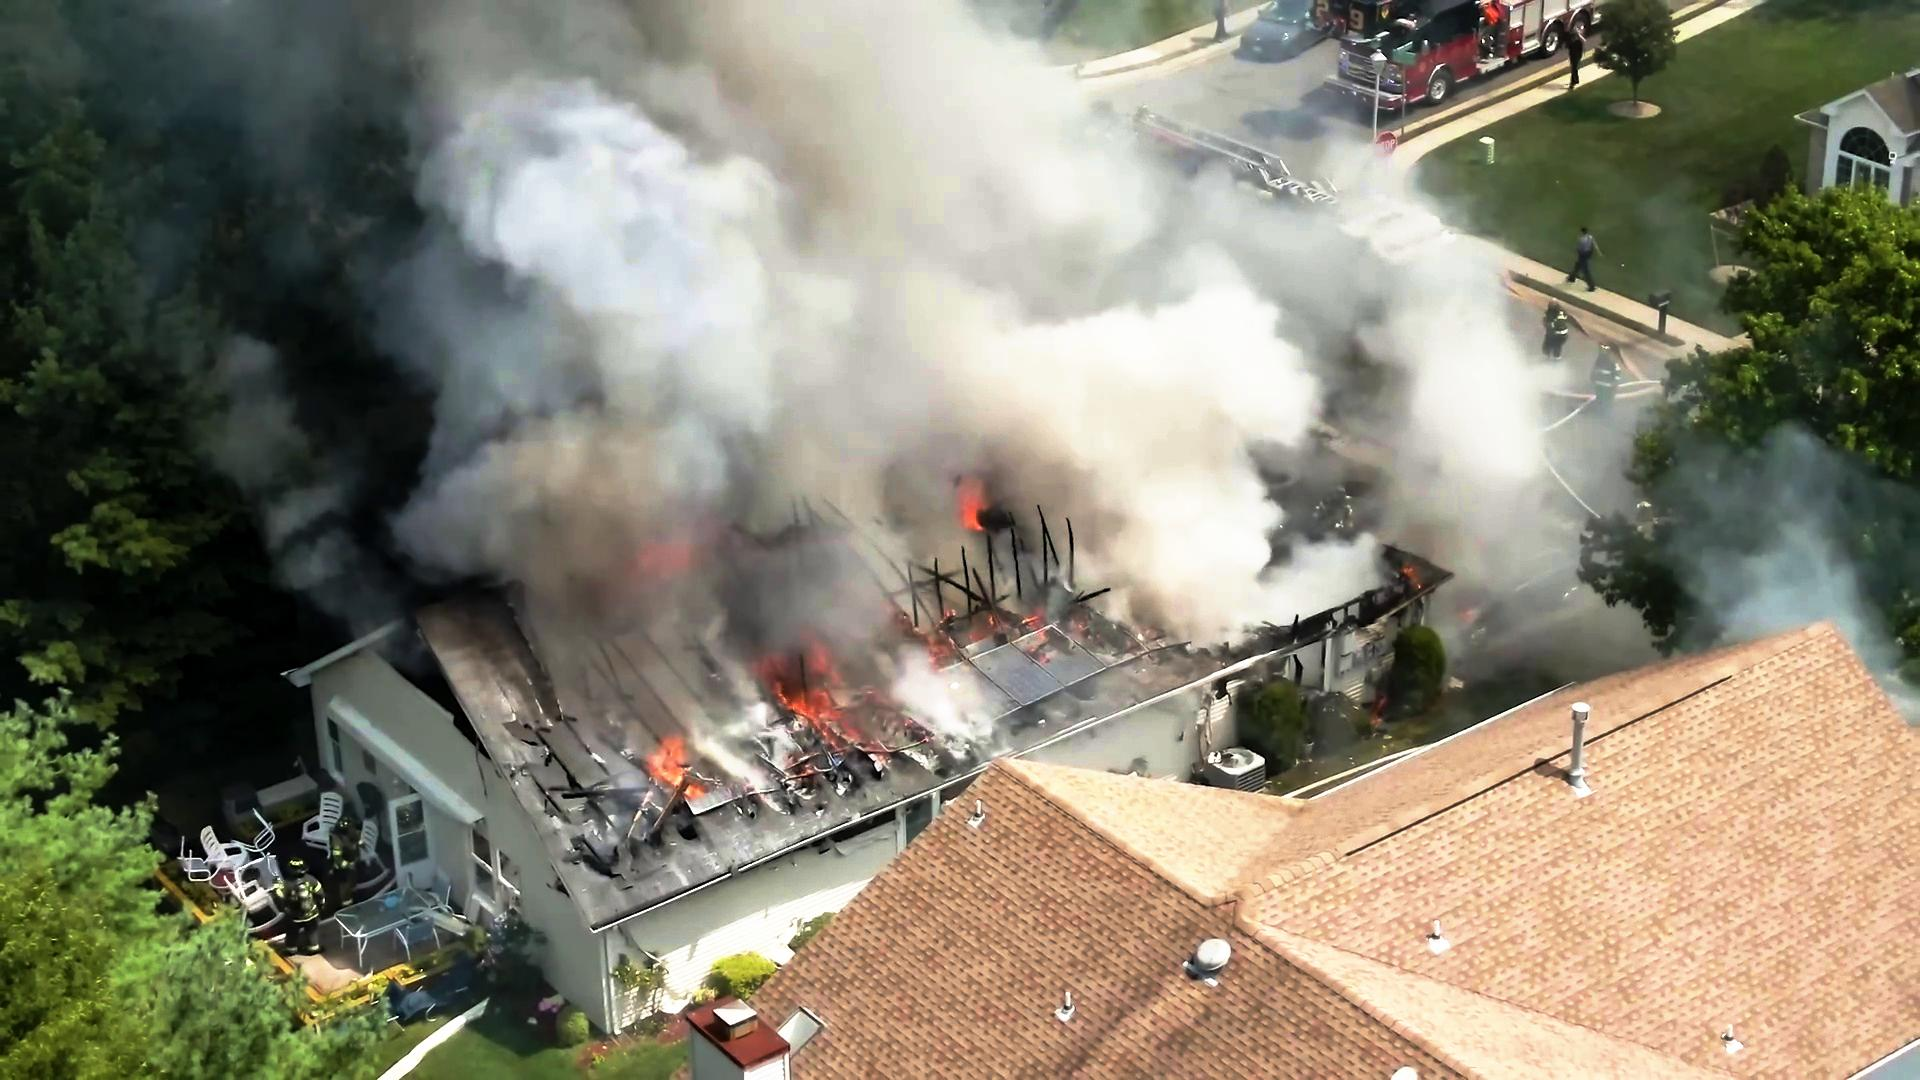smoke: (421, 61, 829, 545), (927, 231, 1356, 567)
